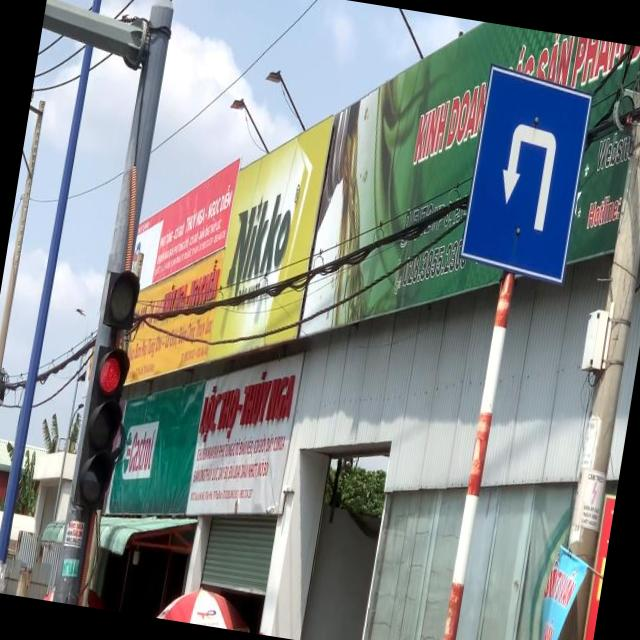I-409: (465, 70, 592, 278)
